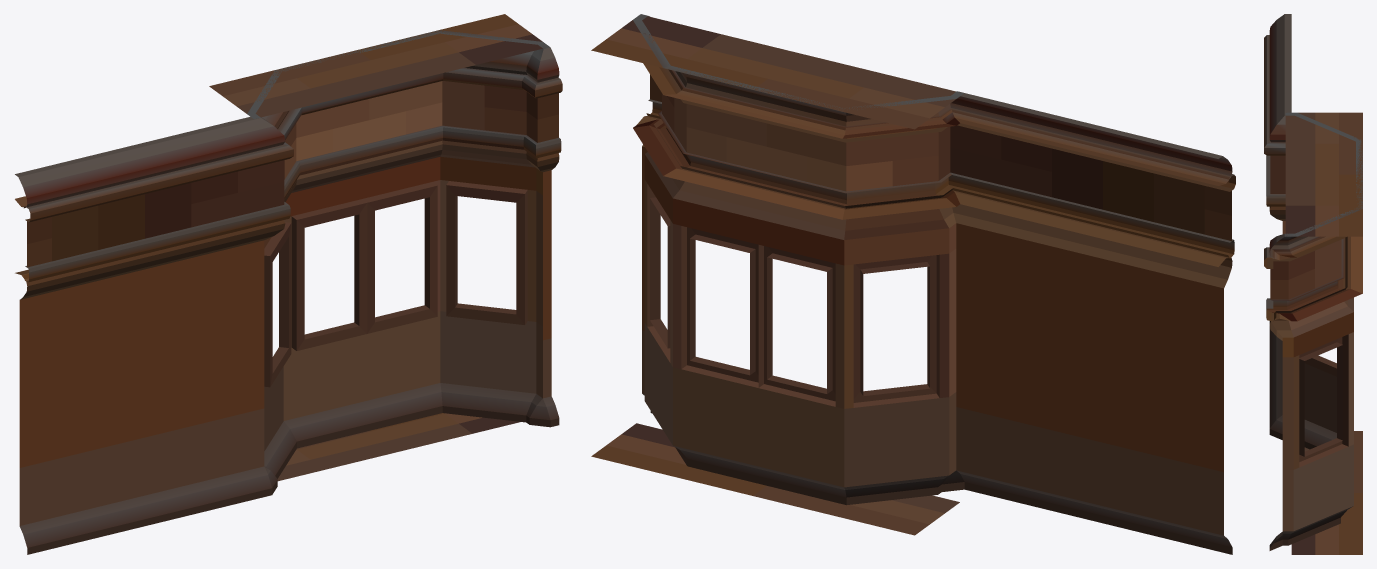
File: Wall_HomeA-4WindowA-R6m.fbx
3 views of the same model, side by side, from view 1: azimuth 30°, elevation 25°; view 2: azimuth 150°, elevation 25°; view 3: azimuth 270°, elevation 25° (orthographic). The views are drawn at different scales.
Visible parts, largest first — view 1: Wall_HomeA-4WindowA-R6m; view 2: Wall_HomeA-4WindowA-R6m; view 3: Wall_HomeA-4WindowA-R6m.
Boxes of the visible parts, x1,y1,x2,y2 form: Wall_HomeA-4WindowA-R6m: [15, 14, 562, 554]; Wall_HomeA-4WindowA-R6m: [591, 14, 1235, 554]; Wall_HomeA-4WindowA-R6m: [1264, 14, 1362, 554].
Bounding box in the file's own units: 600 × 400 × 112.
